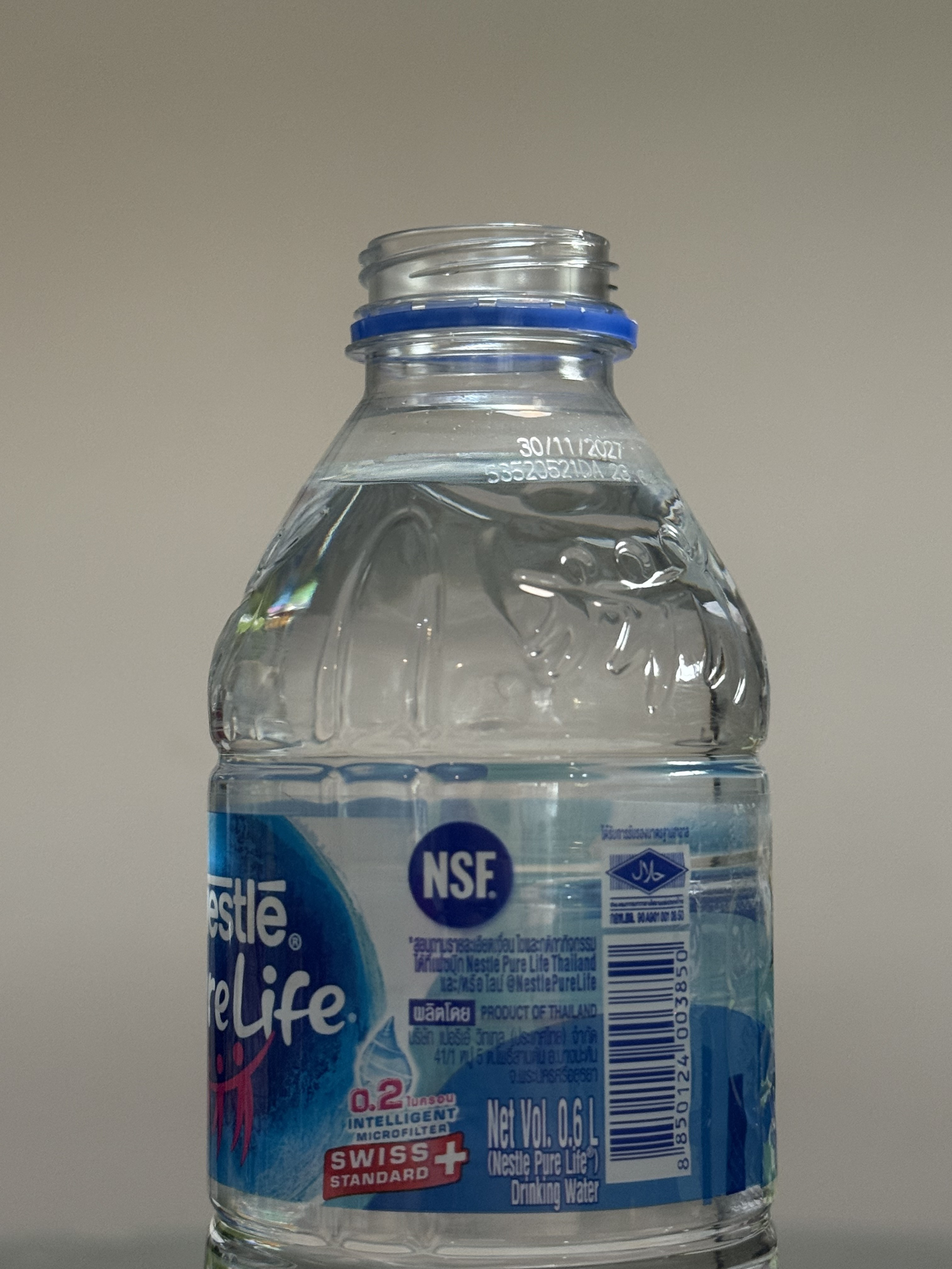no_cap: (345, 218, 640, 355)
